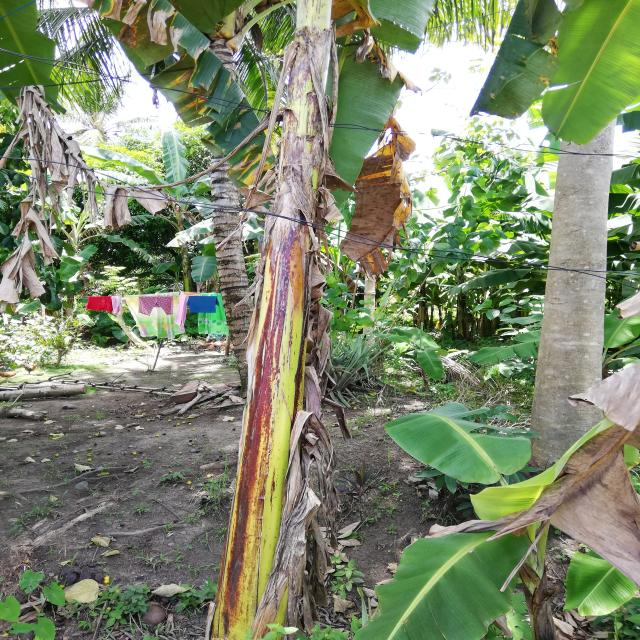Banana-plant: (173, 9, 367, 640)
